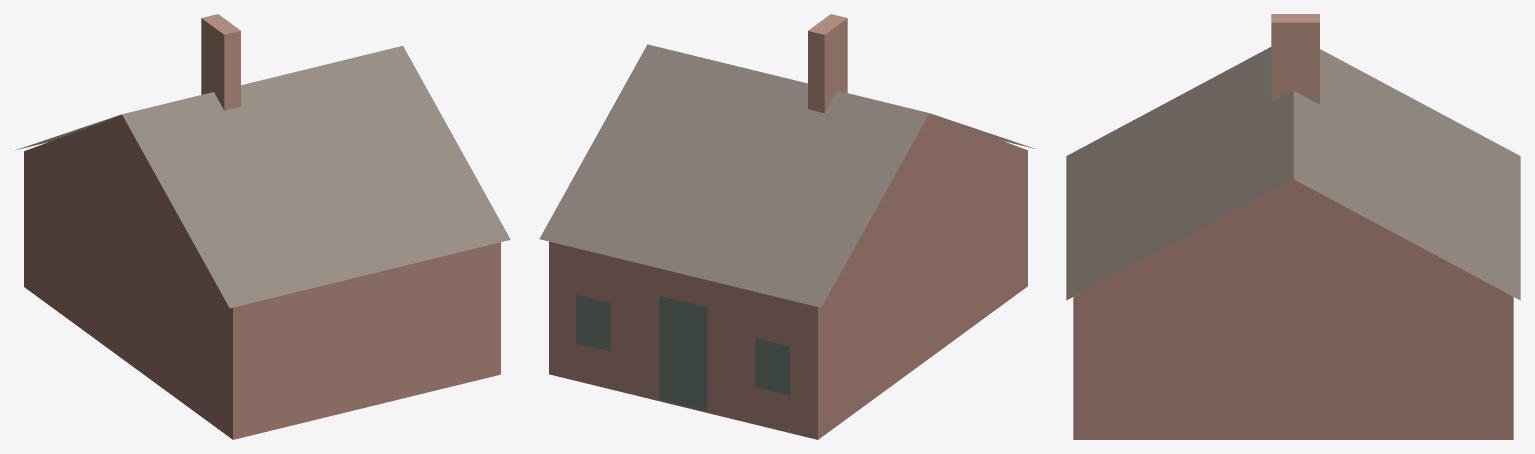
Rendered from recon_1835_south_d4_025__recommended_1835.glb.
3 views of the same model, side by side, from view 1: azimuth 30°, elevation 25°; view 2: azimuth 150°, elevation 25°; view 3: azimuth 270°, elevation 25° (orthographic). The views are drawn at different scales.
Parts seen in each view (by area): view 1: recon_1835_south_d4_025__recommended_1835; view 2: recon_1835_south_d4_025__recommended_1835; view 3: recon_1835_south_d4_025__recommended_1835.
Boxes of the visible parts, <box> form: recon_1835_south_d4_025__recommended_1835: <box>15,14,510,439</box>; recon_1835_south_d4_025__recommended_1835: <box>539,14,1035,439</box>; recon_1835_south_d4_025__recommended_1835: <box>1066,14,1520,439</box>.
Bounding box in the file's own units: 6.03 × 6.47 × 8.02.
